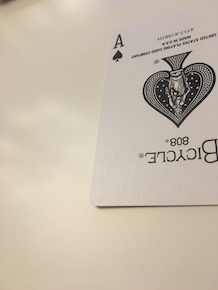AceOfSpades: (88, 1, 218, 213)
